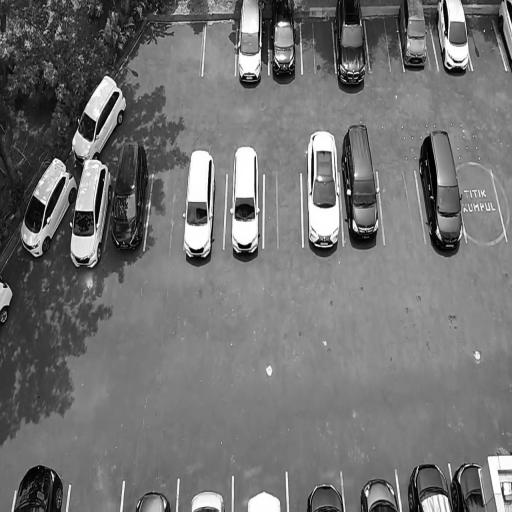Car: (12, 145, 81, 270), (65, 66, 131, 172), (415, 126, 466, 262), (62, 154, 117, 273), (341, 114, 383, 254), (106, 138, 151, 262), (305, 124, 342, 260), (180, 144, 218, 270), (230, 140, 262, 268), (433, 0, 474, 78), (236, 0, 266, 101), (12, 455, 64, 512), (397, 0, 433, 76), (270, 0, 301, 82), (406, 463, 454, 512), (452, 461, 487, 512), (359, 476, 400, 512), (496, 0, 512, 79), (307, 480, 346, 512), (0, 264, 16, 335), (189, 489, 228, 512), (246, 487, 281, 512), (135, 489, 172, 512)
Space Available: (377, 169, 427, 249), (145, 169, 188, 256), (458, 172, 505, 243), (265, 169, 303, 248), (464, 12, 505, 72), (364, 14, 404, 75), (202, 16, 238, 76), (302, 16, 336, 78), (68, 481, 125, 512)
